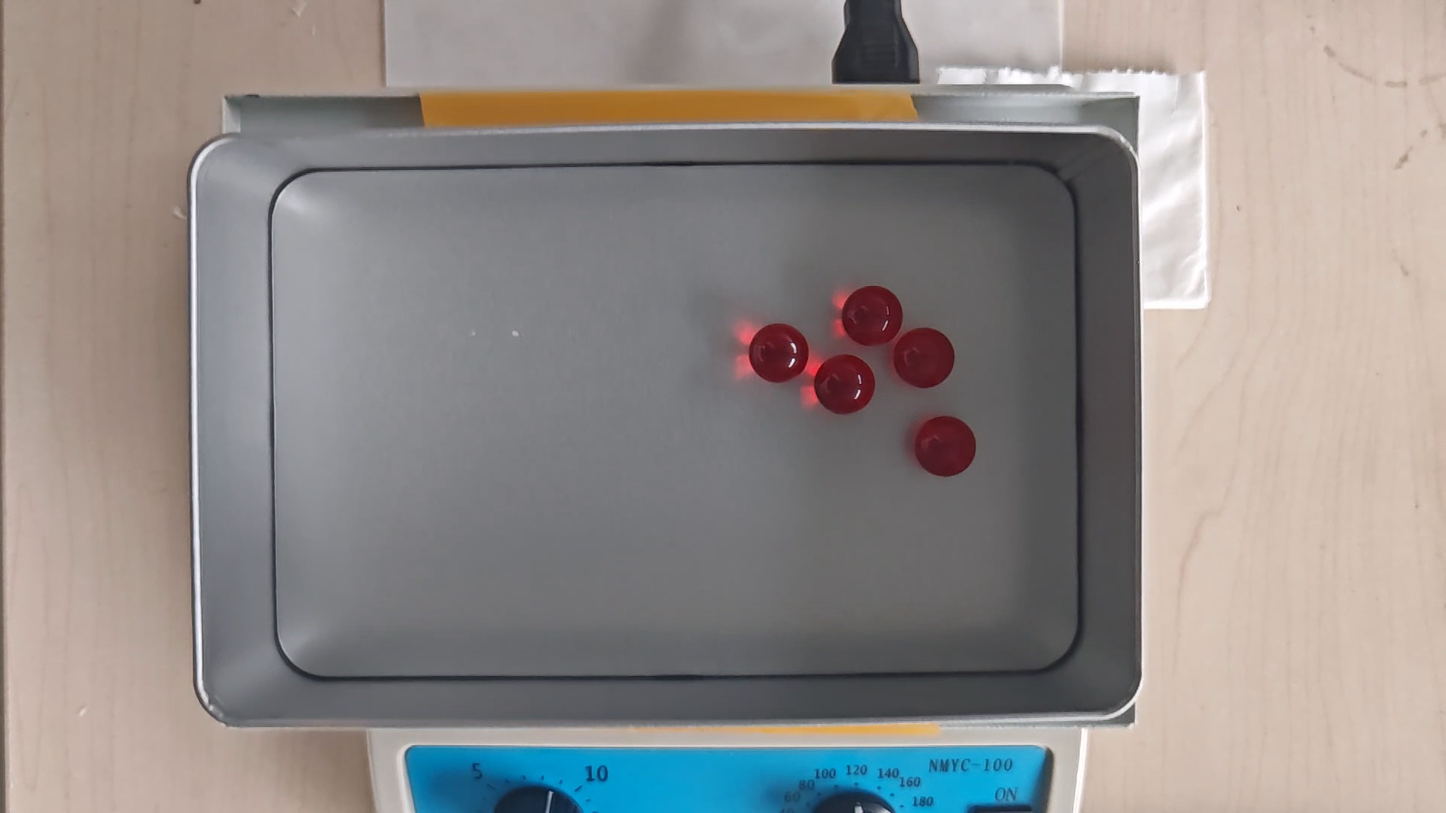ball: (816, 355, 875, 417), (840, 287, 902, 346), (915, 416, 976, 475), (895, 330, 954, 390), (750, 324, 808, 384)
container: (272, 163, 1079, 677)
